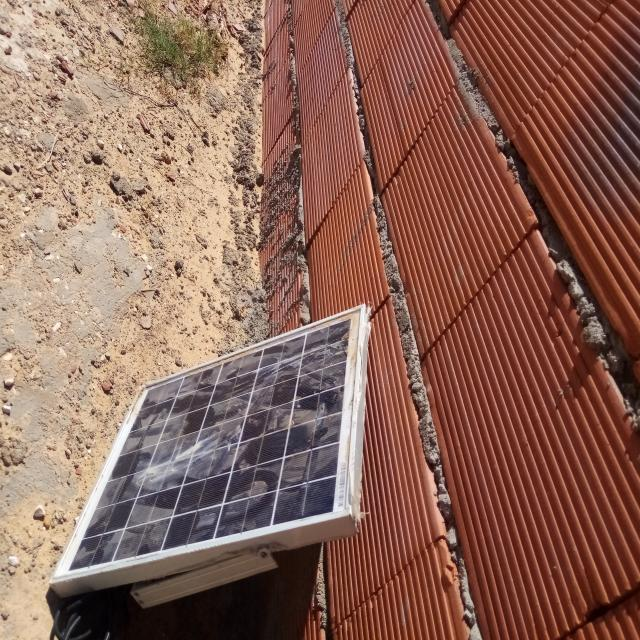faulty: (54, 306, 363, 580)
